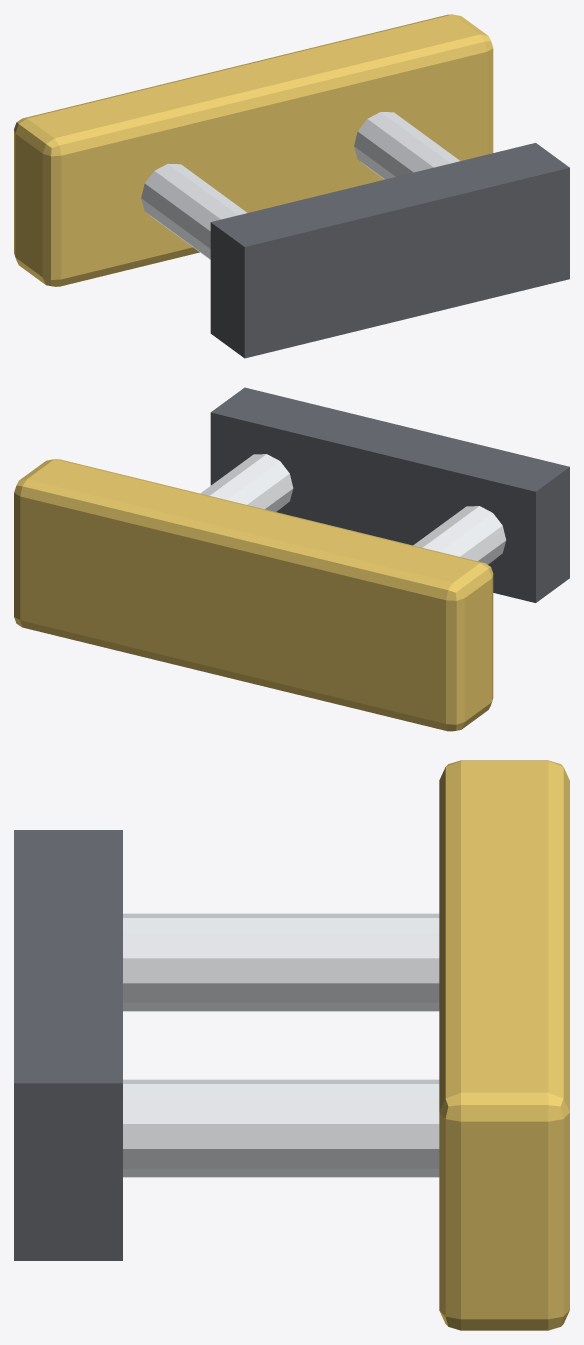
The model's file is Weapon_Spring_Bumper.fbx.
The picture shows the model from 3 angles, top to bottom: view 1: azimuth 30°, elevation 25°; view 2: azimuth 150°, elevation 25°; view 3: azimuth 270°, elevation 25°; orthographic projection. The views are drawn at different scales.
Visible parts, largest first — view 1: Bumper_Impact_Plate, Bumper_Mount_Bracket, Bumper_Piston_L, Bumper_Piston_R; view 2: Bumper_Impact_Plate, Bumper_Mount_Bracket, Bumper_Piston_L, Bumper_Piston_R; view 3: Bumper_Impact_Plate, Bumper_Mount_Bracket, Bumper_Piston_L, Bumper_Piston_R.
Part boxes in pixels (box(x1,y1,x2,y2)): Bumper_Impact_Plate: box(14, 14, 493, 286); Bumper_Mount_Bracket: box(210, 143, 569, 358); Bumper_Piston_L: box(141, 163, 246, 259); Bumper_Piston_R: box(354, 112, 459, 179); Bumper_Impact_Plate: box(14, 459, 493, 731); Bumper_Mount_Bracket: box(210, 387, 569, 602); Bumper_Piston_L: box(413, 506, 506, 564); Bumper_Piston_R: box(200, 454, 293, 511); Bumper_Impact_Plate: box(439, 760, 569, 1330); Bumper_Mount_Bracket: box(14, 830, 122, 1260); Bumper_Piston_L: box(123, 913, 439, 1011); Bumper_Piston_R: box(123, 1079, 439, 1177).
Size of the model in its own units: 0.76 by 0.51 by 0.24.
